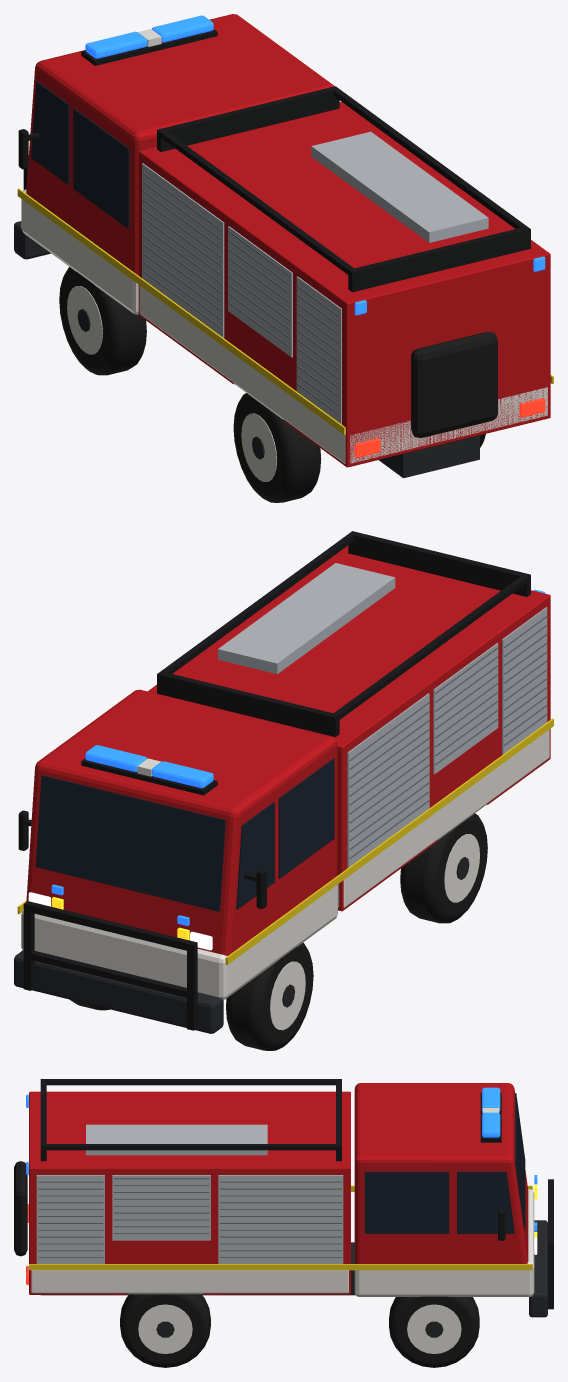
3 views of the same model, one above another, from view 1: azimuth 30°, elevation 25°; view 2: azimuth 150°, elevation 25°; view 3: azimuth 270°, elevation 25° (orthographic). The views are drawn at different scales.
Visible parts, largest first — view 1: nadgradnja, kabina, rolete, stresni_nosilec, nadgr_bela, lopata, rezervna, utori, guma1-1, okno.002, guma0-1, kabina_bela (+9 smaller); view 2: kabina, nadgradnja, rolete, vetrobran, stresni_nosilec, kabina_bela, lopata, nadgr_bela, odbijac, zascitni_lok, utori, guma1-1 (+9 smaller); view 3: nadgradnja, rolete, kabina, nadgr_bela, okno.003, kabina_bela, utori, stresni_nosilec, lopata, guma11, trak, guma01 (+10 smaller).
Part boxes in pixels (x1=…): nadgradnja: x1=138, y1=101, x2=550, y2=467; kabina: x1=26, y1=14, x2=334, y2=275; rolete: x1=142, y1=163, x2=341, y2=424; stresni_nosilec: x1=157, y1=86, x2=530, y2=292; nadgr_bela: x1=139, y1=285, x2=547, y2=463; lopata: x1=311, y1=131, x2=488, y2=242; rezervna: x1=411, y1=332, x2=497, y2=437; utori: x1=142, y1=172, x2=339, y2=415; guma1-1: x1=233, y1=393, x2=321, y2=502; okno.002: x1=73, y1=108, x2=129, y2=228; guma0-1: x1=59, y1=267, x2=146, y2=375; kabina_bela: x1=21, y1=189, x2=138, y2=314; kabina: x1=26, y1=689, x2=337, y2=955; nadgradnja: x1=148, y1=545, x2=550, y2=911; rolete: x1=347, y1=607, x2=547, y2=868; vetrobran: x1=35, y1=775, x2=225, y2=911; stresni_nosilec: x1=157, y1=531, x2=530, y2=736; kabina_bela: x1=21, y1=884, x2=337, y2=999; lopata: x1=218, y1=563, x2=395, y2=674; nadgr_bela: x1=338, y1=729, x2=549, y2=907; odbijac: x1=14, y1=950, x2=223, y2=1033; zascitni_lok: x1=23, y1=901, x2=197, y2=1030; utori: x1=349, y1=616, x2=546, y2=858; guma1-1: x1=400, y1=813, x2=487, y2=923; nadgradnja: x1=29, y1=1091, x2=350, y2=1294; rolete: x1=36, y1=1175, x2=343, y2=1263; kabina: x1=354, y1=1083, x2=528, y2=1263; nadgr_bela: x1=31, y1=1270, x2=348, y2=1294; okno.003: x1=364, y1=1171, x2=449, y2=1233; kabina_bela: x1=354, y1=1189, x2=534, y2=1296; utori: x1=38, y1=1178, x2=341, y2=1257; stresni_nosilec: x1=40, y1=1079, x2=341, y2=1161; lopata: x1=86, y1=1124, x2=267, y2=1155; guma11: x1=120, y1=1294, x2=210, y2=1367; trak: x1=29, y1=1185, x2=532, y2=1270; guma01: x1=389, y1=1296, x2=479, y2=1367.
Bounding box in the file's own units: 2.88 × 3.25 × 7.13.
